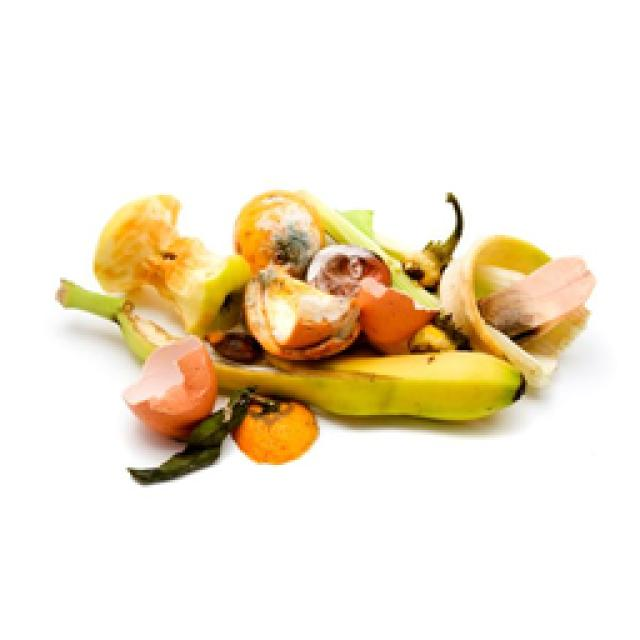food_waste: (60, 190, 592, 482)
